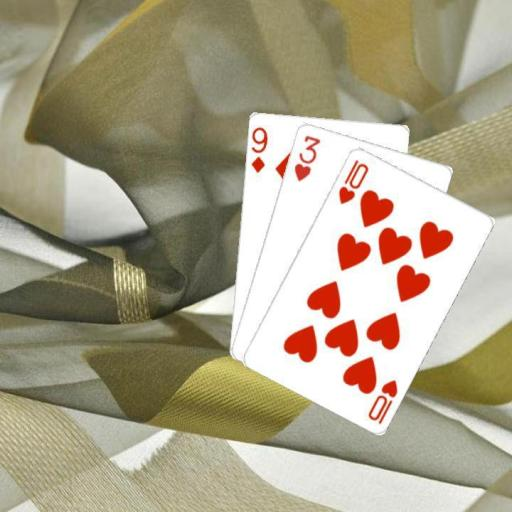card-corner: (335, 156, 370, 206), (364, 376, 399, 426), (291, 132, 322, 182), (247, 123, 269, 174)
